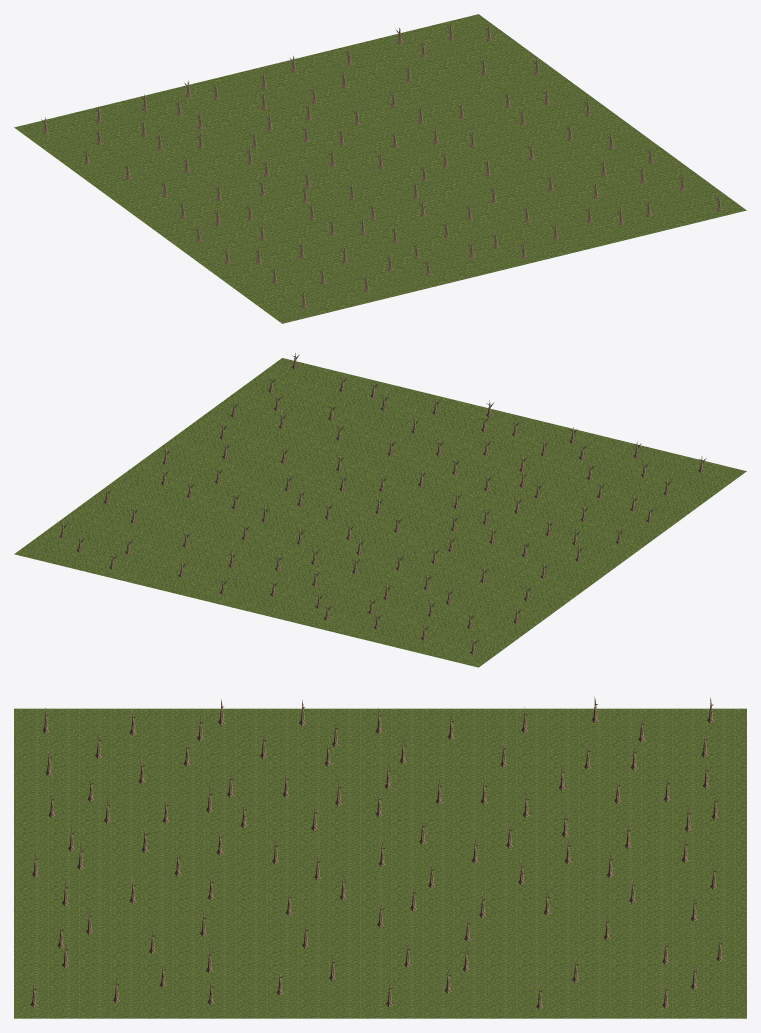
File: TST_Forest.glb
3 views of the same model, one above another, from view 1: azimuth 30°, elevation 25°; view 2: azimuth 150°, elevation 25°; view 3: azimuth 270°, elevation 25° (orthographic). The views are drawn at different scales.
Parts seen in each view (by area): view 1: Plane; view 2: Plane; view 3: Plane.
Boxes of the visible parts, x1,y1,x2,y2 form: Plane: (14, 14, 746, 323); Plane: (14, 358, 746, 667); Plane: (14, 708, 746, 1018).
Bounding box in the file's own units: 100 × 3.27 × 100.
Materials: 2 (2 with a texture image).
